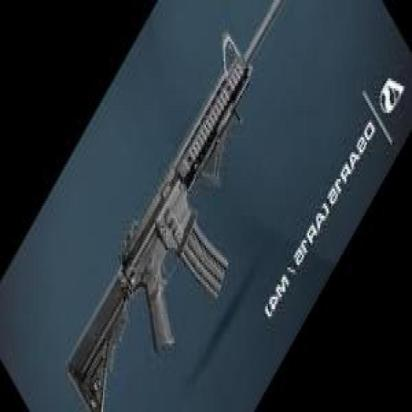Gun: (63, 0, 285, 412)
